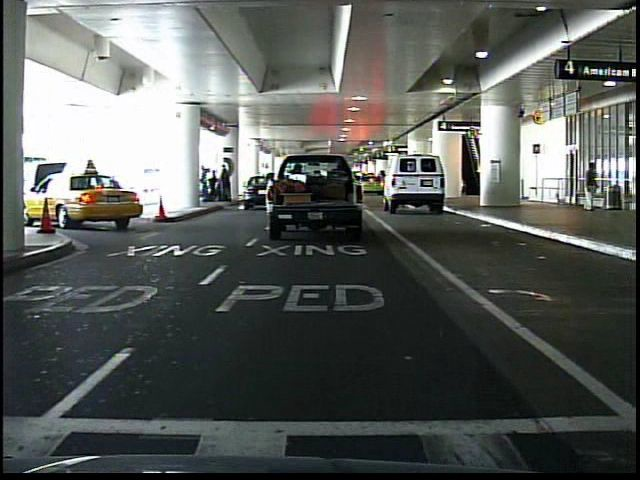person: (579, 161, 601, 215)
